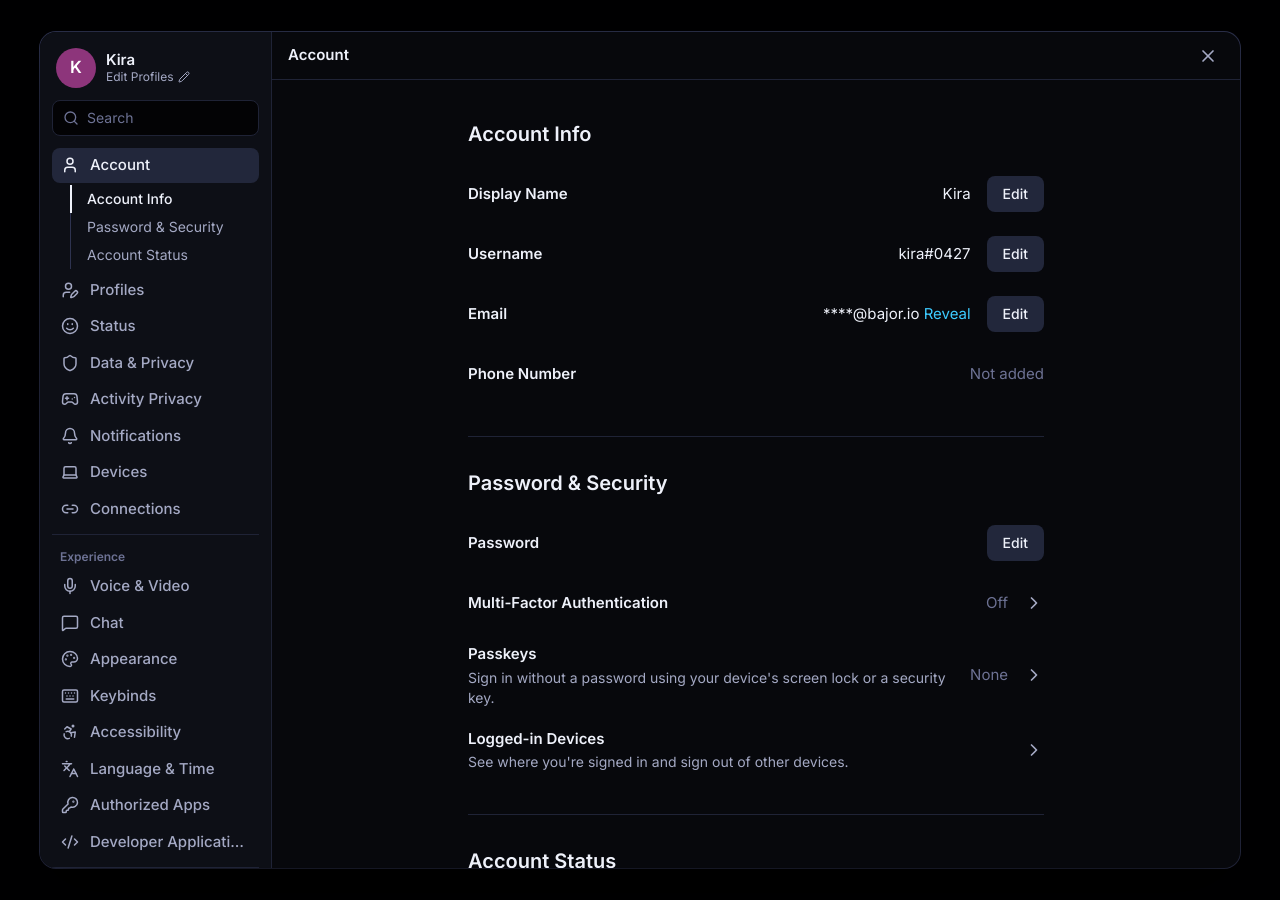
Scenario: User Settings › filters the nav with search
The image size is (1280, 900).
Type "notif" into the field named "Search settings" at {"x": 168, "y": 118}, box [87,108,248,128]
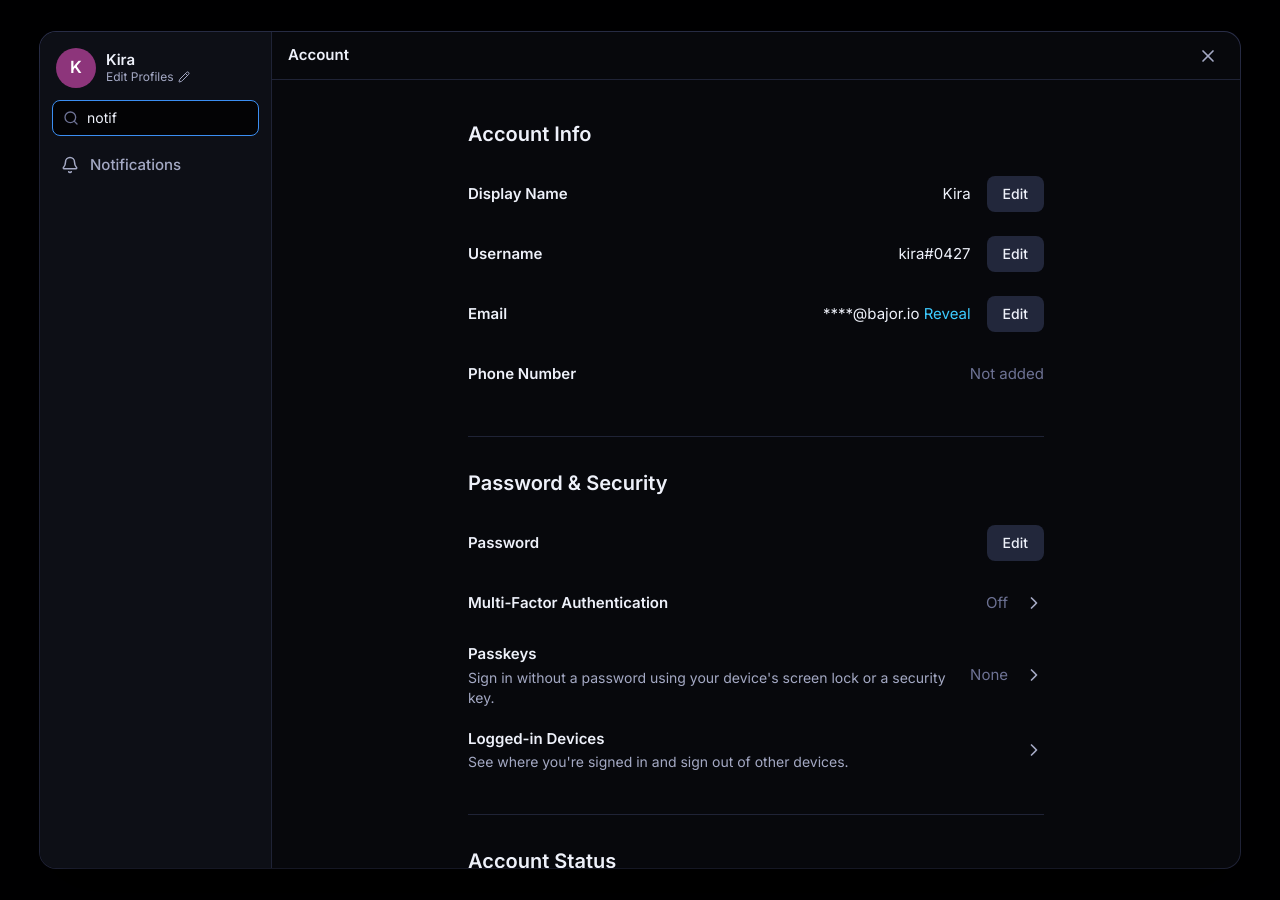
Expected: the navigation bar named "User Settings sections" shows "Notifications", [52,148,259,182]
Now the navigation bar named "User Settings sections" no longer shows "Appearance", box [40,32,272,868]
